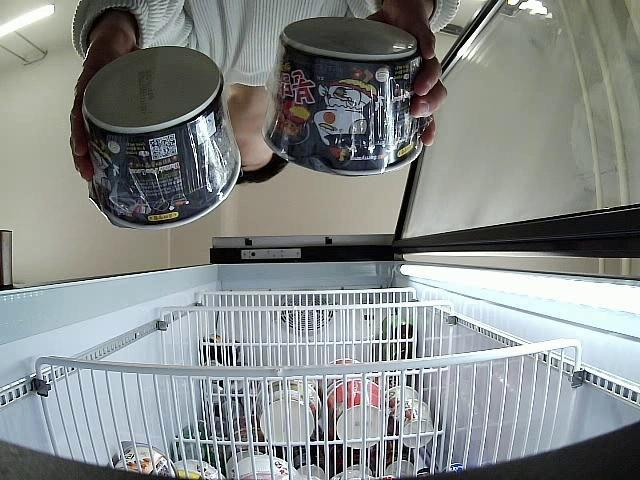07_buldak_L: (80, 44, 240, 230), (261, 18, 426, 176)
